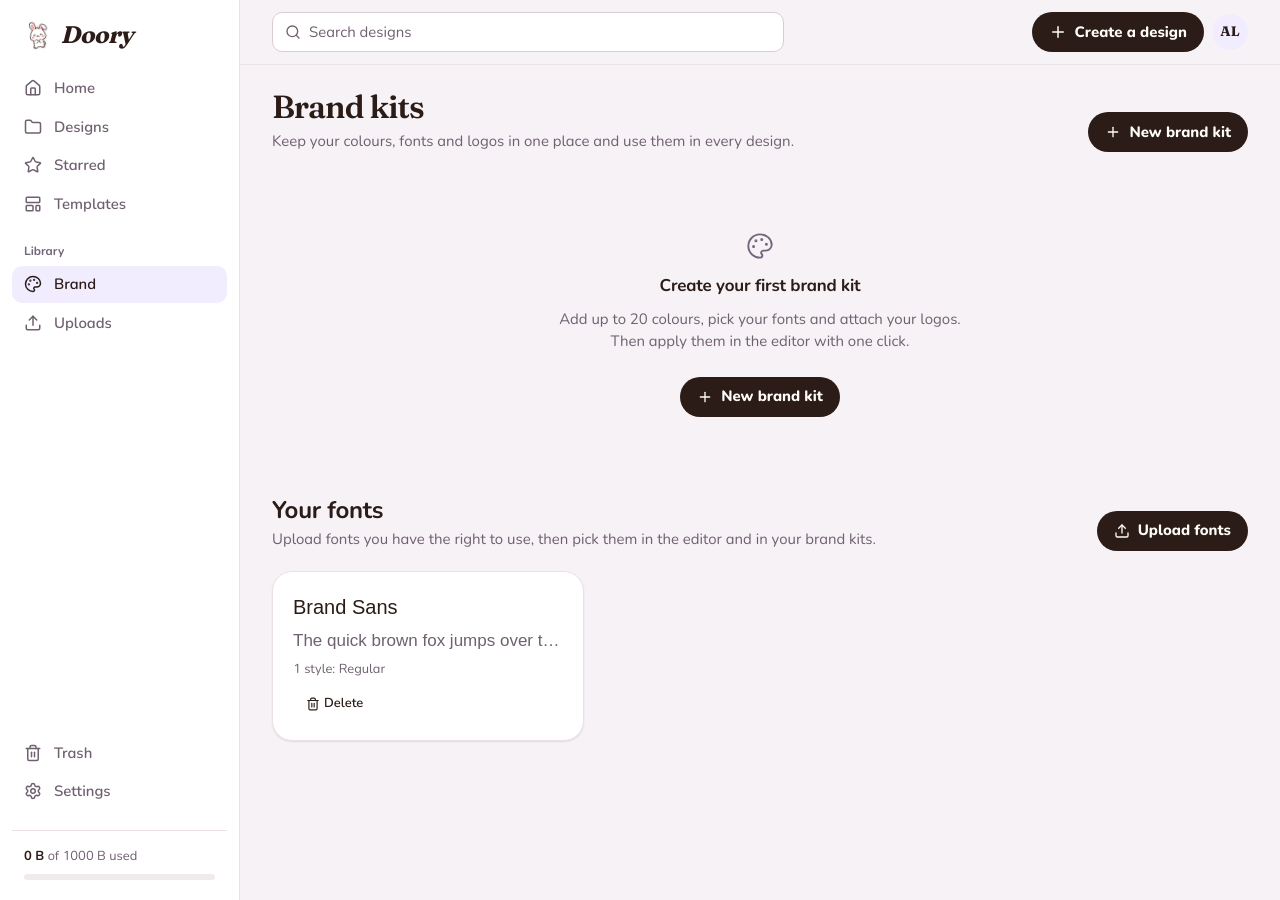
Test: brand page: your fonts › keeps the family and explains when the server refuses to delete it
Click the button with aria-label "Delete Brand Sans": point(335, 704) [293,688,376,720]
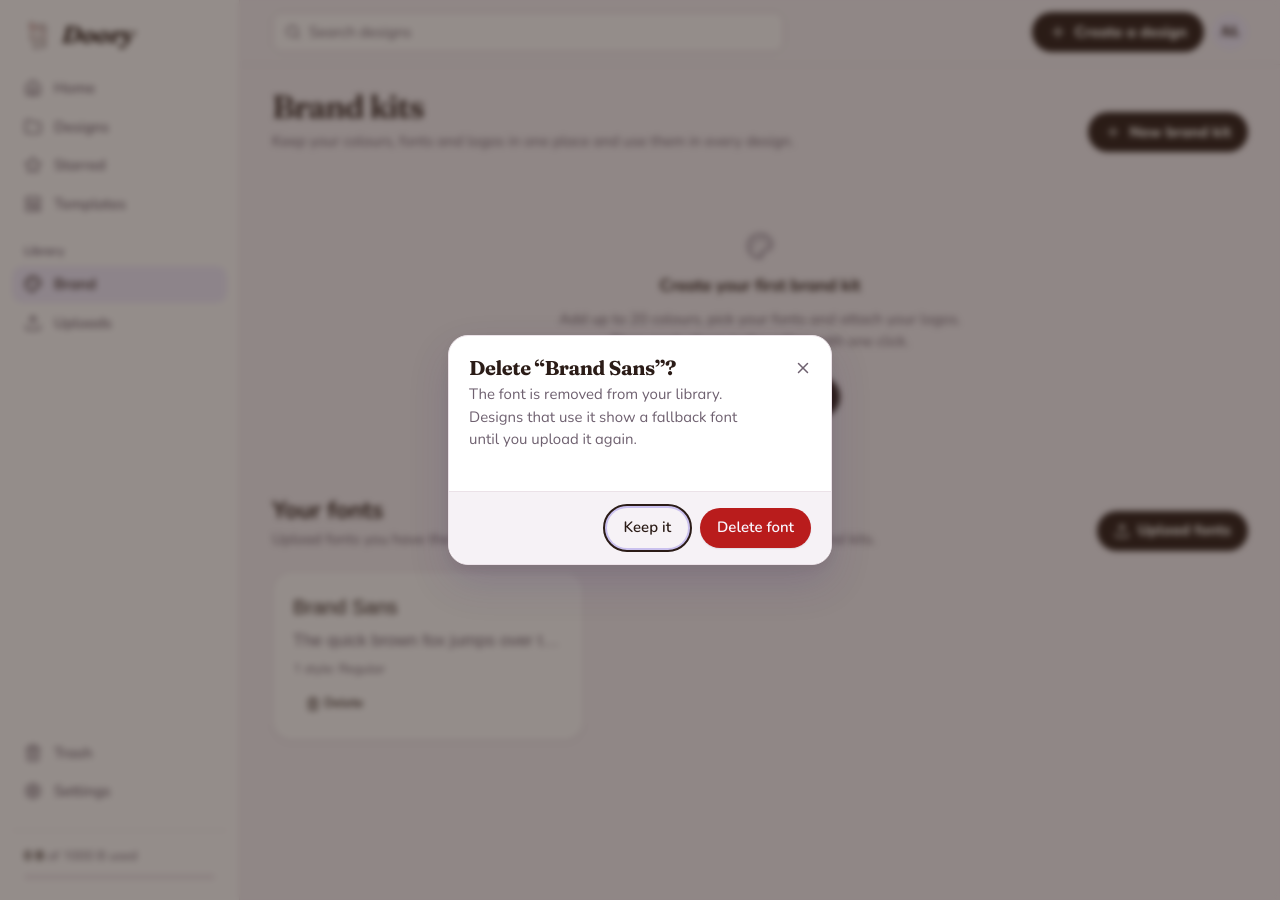
Click the button "Delete font": point(756, 528) [700,508,811,548]
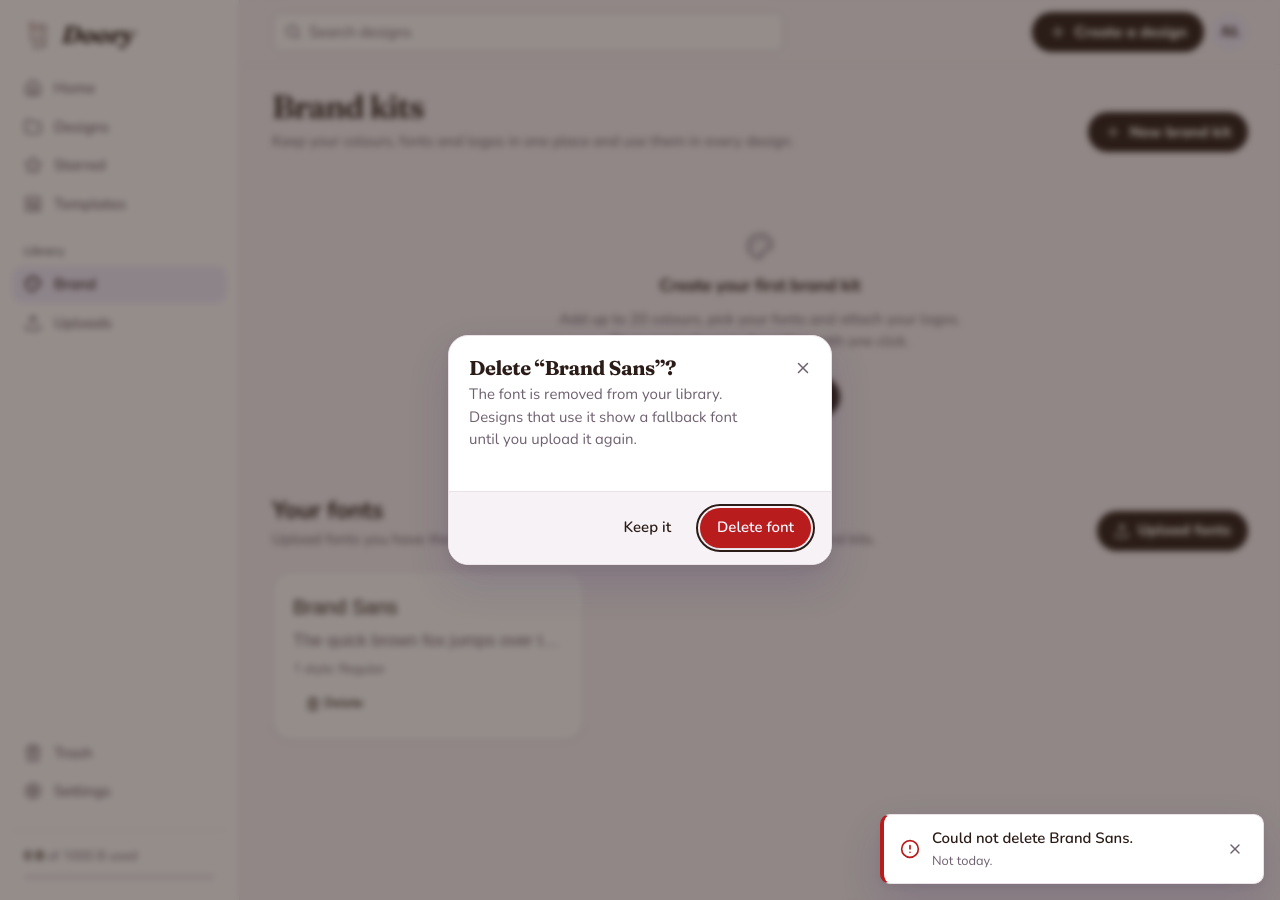
Expected: the element with test id "your-font" is shown, [272,571,584,740]
Result: the text "Could not delete Brand Sans." is shown at [932,828,1133,848]
